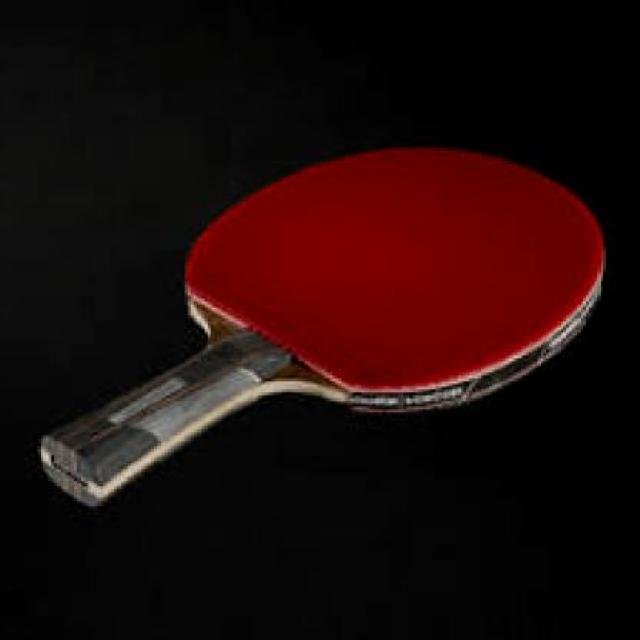table_tennis_racket: (174, 144, 612, 427)
